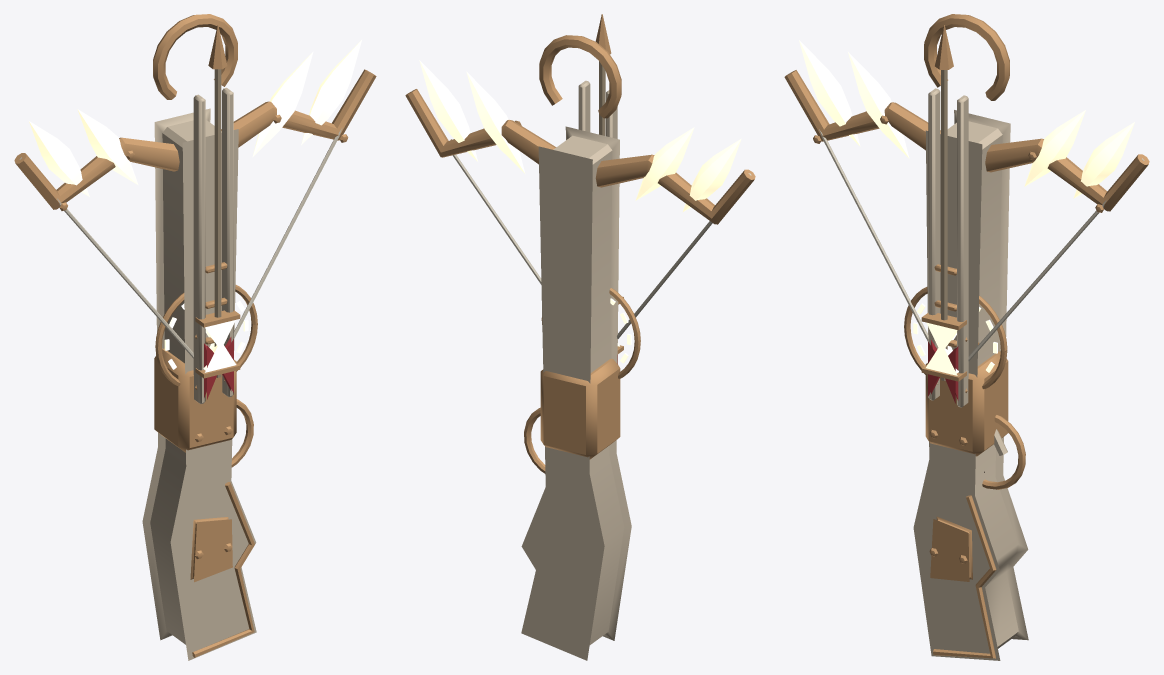
Rendered from fa_sandglass_arbalest.glb.
The picture shows the model from 3 angles, left to right: view 1: azimuth 30°, elevation 25°; view 2: azimuth 150°, elevation 25°; view 3: azimuth 330°, elevation 25°; orthographic projection. The views are drawn at different scales.
Visible parts, largest first — view 1: fa_sandglass_arbalest; view 2: fa_sandglass_arbalest; view 3: fa_sandglass_arbalest.
Boxes of the visible parts, bbox=[...] form: fa_sandglass_arbalest: bbox=[14, 14, 376, 660]; fa_sandglass_arbalest: bbox=[405, 14, 755, 660]; fa_sandglass_arbalest: bbox=[784, 14, 1149, 660].
Size of the model in its own units: 0.7411 by 1.25 by 0.1545.
